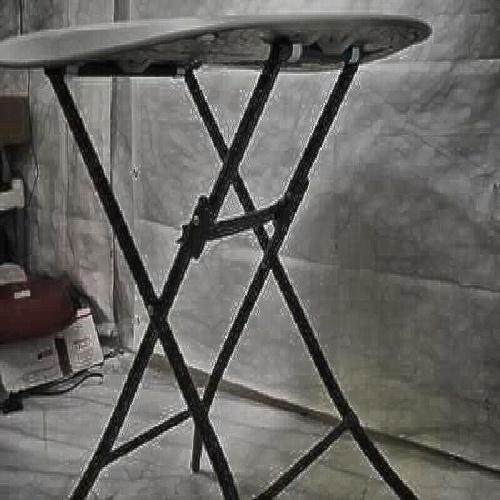table: (34, 31, 414, 475)
